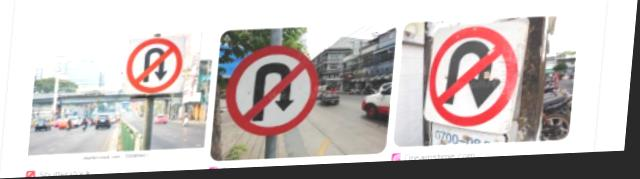not_u_turn_right: (416, 22, 523, 141), (227, 44, 320, 143), (127, 35, 189, 102)
